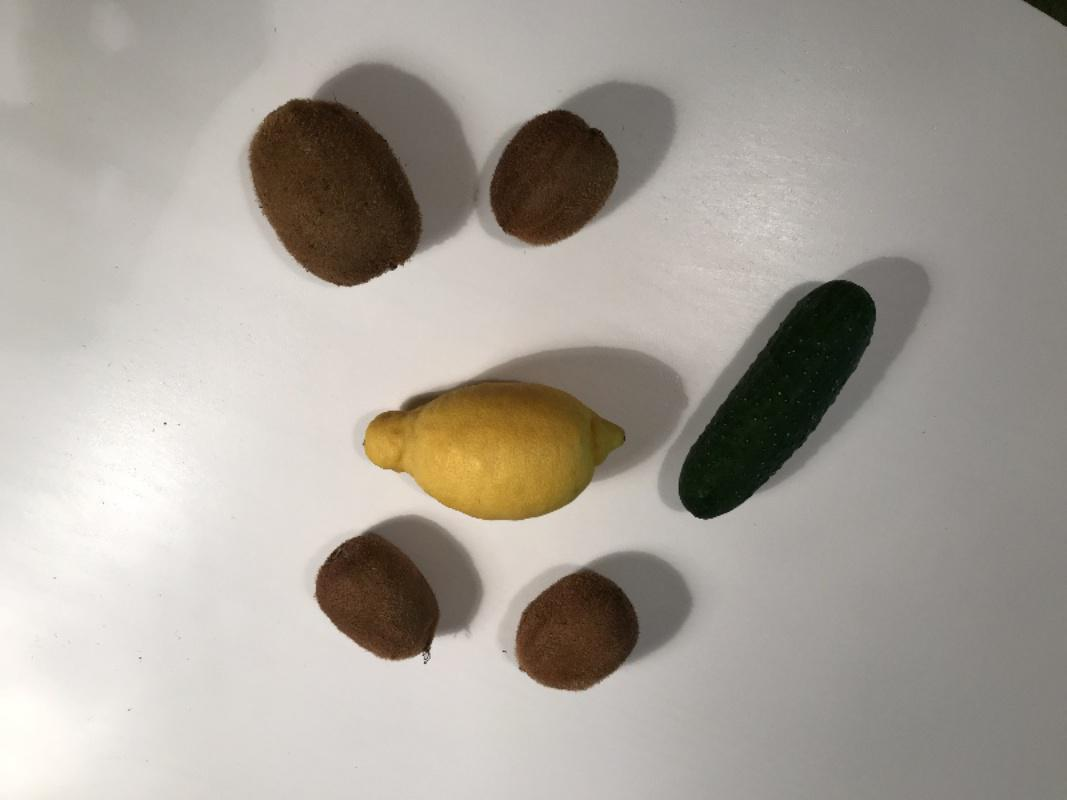kiwi: (249, 100, 421, 286), (489, 110, 618, 247), (314, 535, 438, 663), (515, 568, 638, 692)
lemon: (363, 380, 626, 519)
